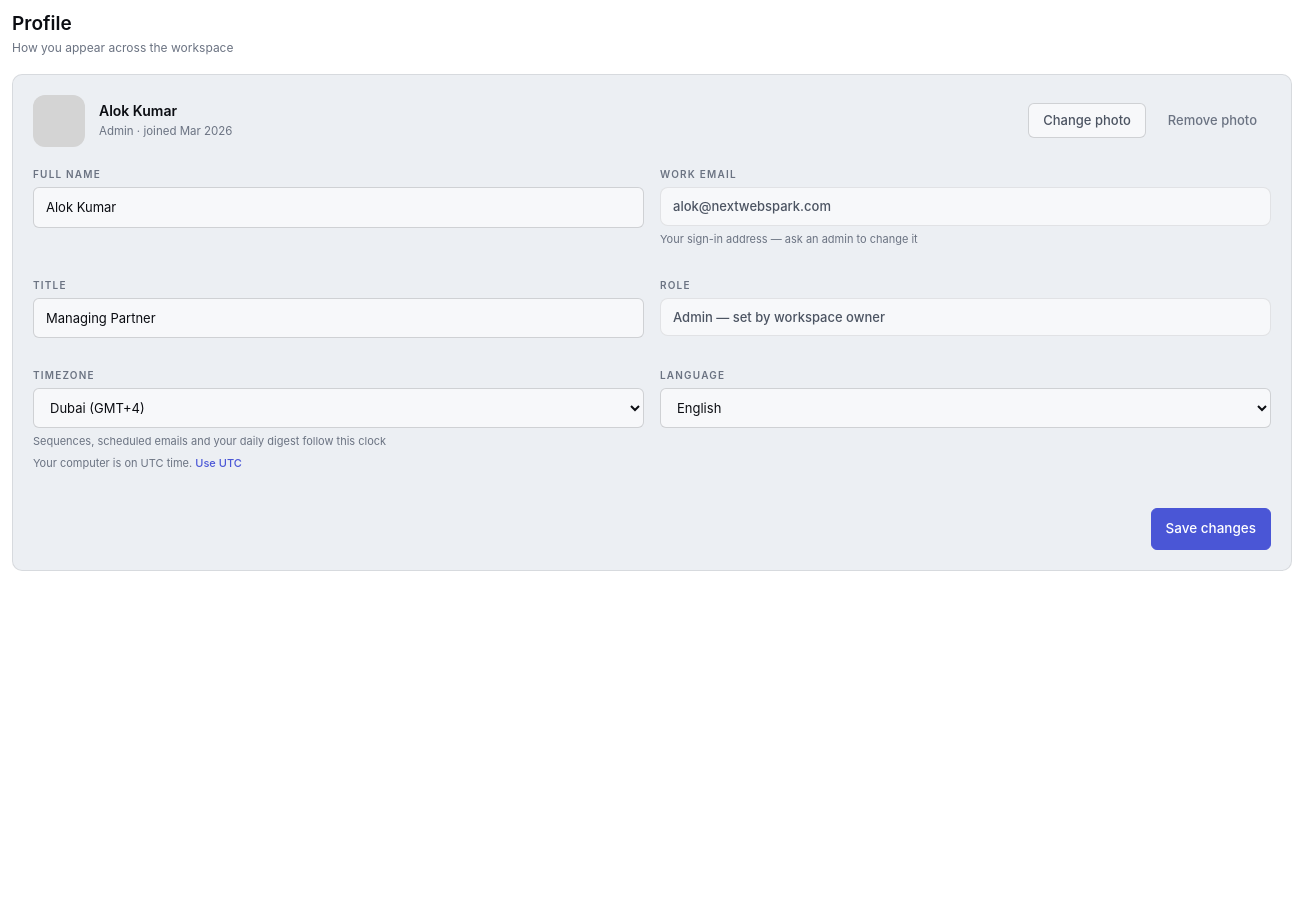
it: SettingsProfilePage — your own profile › the photo › offers Remove photo only while there is one, and removes it
Click the button "Remove photo": [1212, 121] box [1154,104,1271,137]
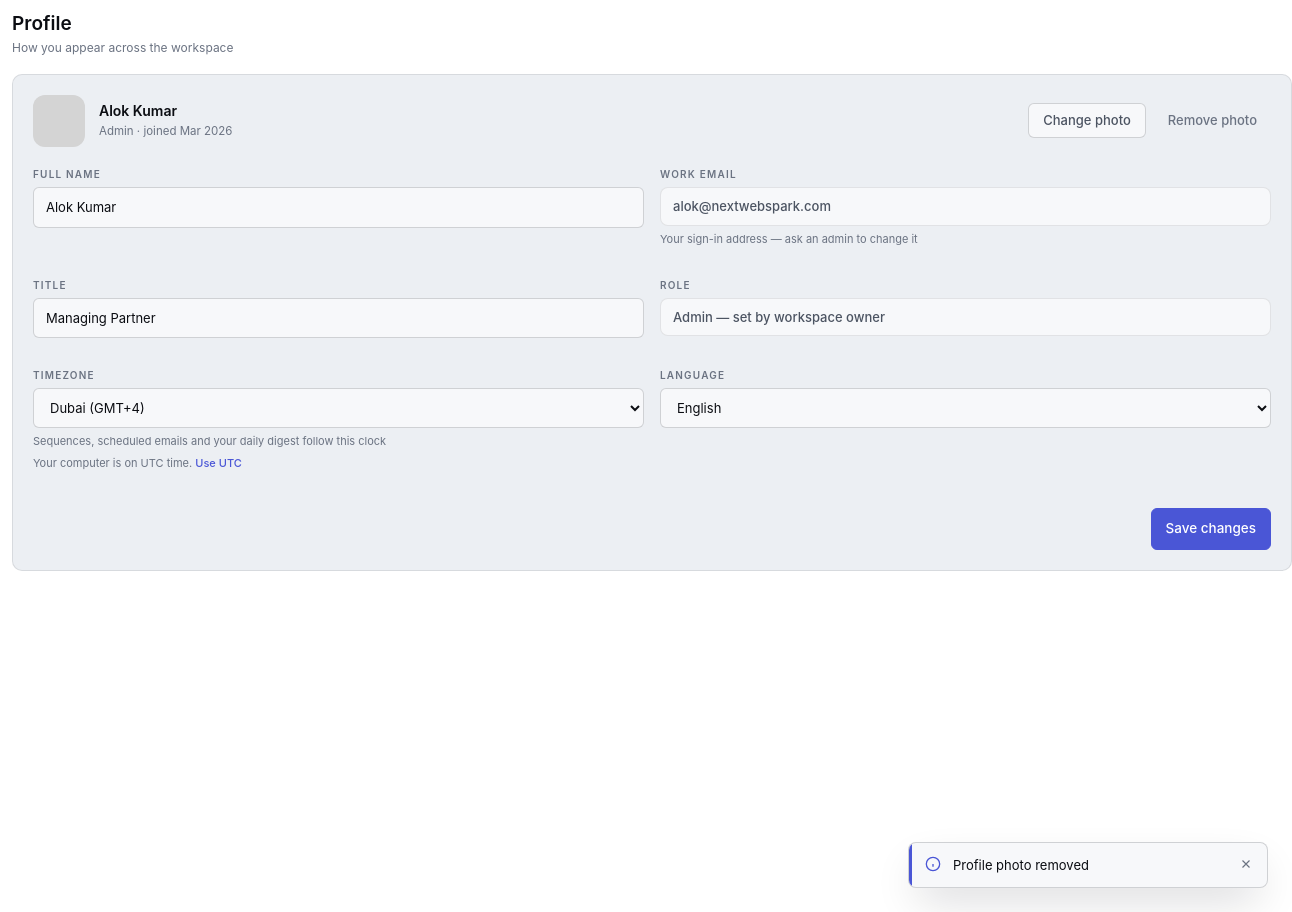
expect the text "Profile photo removed" is shown: met, box [953,857,1089,873]
